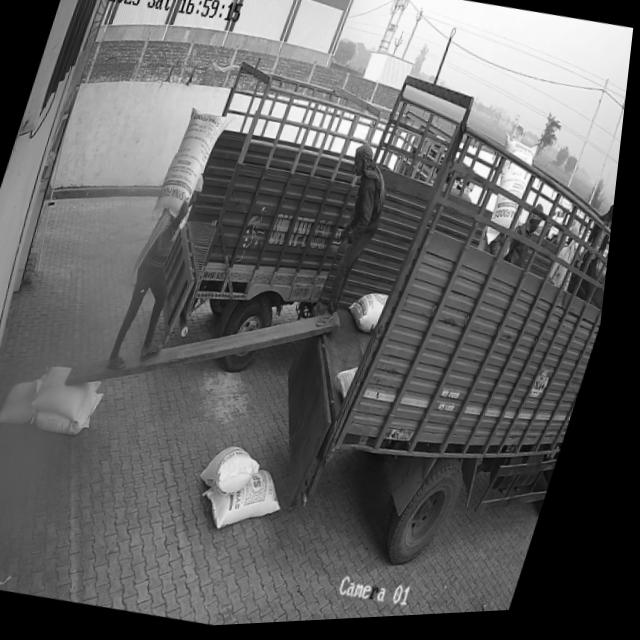sack: (155, 105, 236, 228), (203, 459, 304, 543), (35, 360, 112, 425), (37, 381, 114, 441), (206, 442, 276, 504), (5, 373, 56, 431)
